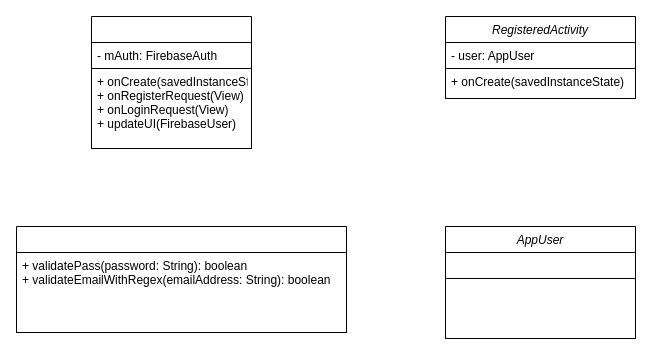
Image size: 652x355. Some labels were removed from this diagram. The box of each missing label's shape, as (x1, y1, x2, y2) in pixels:
+ AppUser(FirebaseUser) + getEmail(): String + setEmail(email: String): (444, 278, 636, 338)
- email: String: (444, 252, 636, 278)
LoginActivity: (90, 16, 252, 148)
TestValidation: (16, 226, 346, 332)
